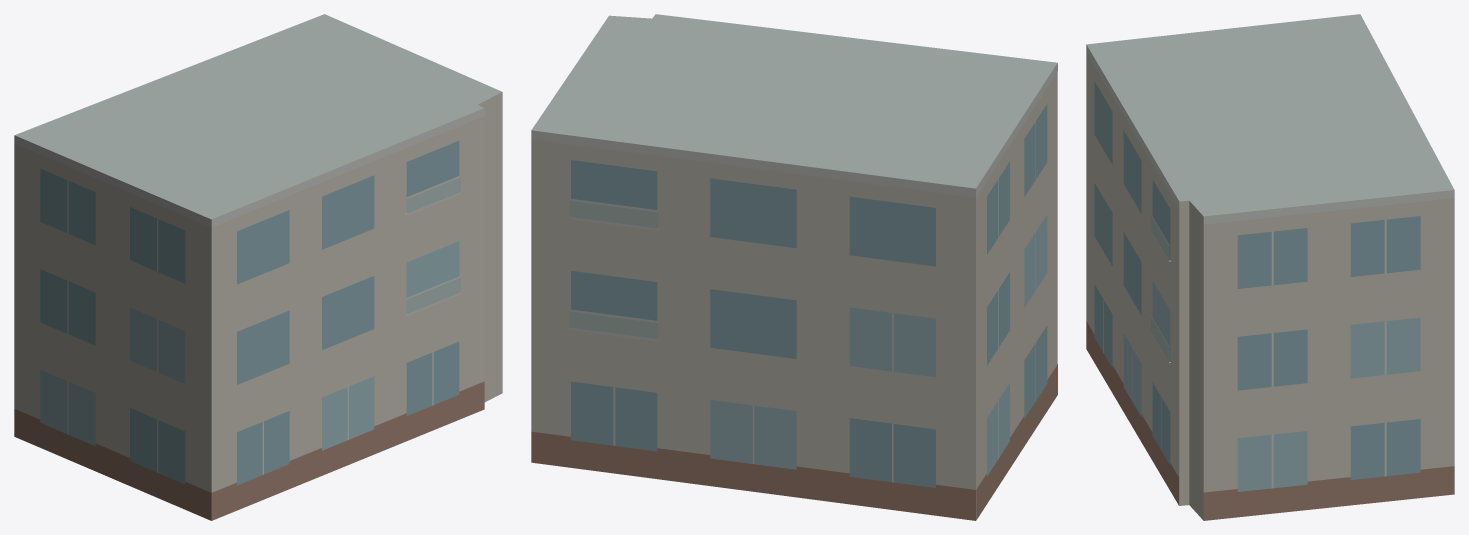
Rendered from survey-upis-32578448.glb.
The picture shows the model from 3 angles, left to right: view 1: azimuth 30°, elevation 25°; view 2: azimuth 150°, elevation 25°; view 3: azimuth 270°, elevation 25°; orthographic projection. The views are drawn at different scales.
Parts seen in each view (by area): view 1: survey-upis-32578448.tmp; view 2: survey-upis-32578448.tmp; view 3: survey-upis-32578448.tmp.
Part boxes in pixels (x1,y1,x2,y2): survey-upis-32578448.tmp: (14,14,502,520); survey-upis-32578448.tmp: (531,14,1057,520); survey-upis-32578448.tmp: (1086,14,1454,520).
Size of the model in its own units: 13.05 by 9.15 by 10.04.
